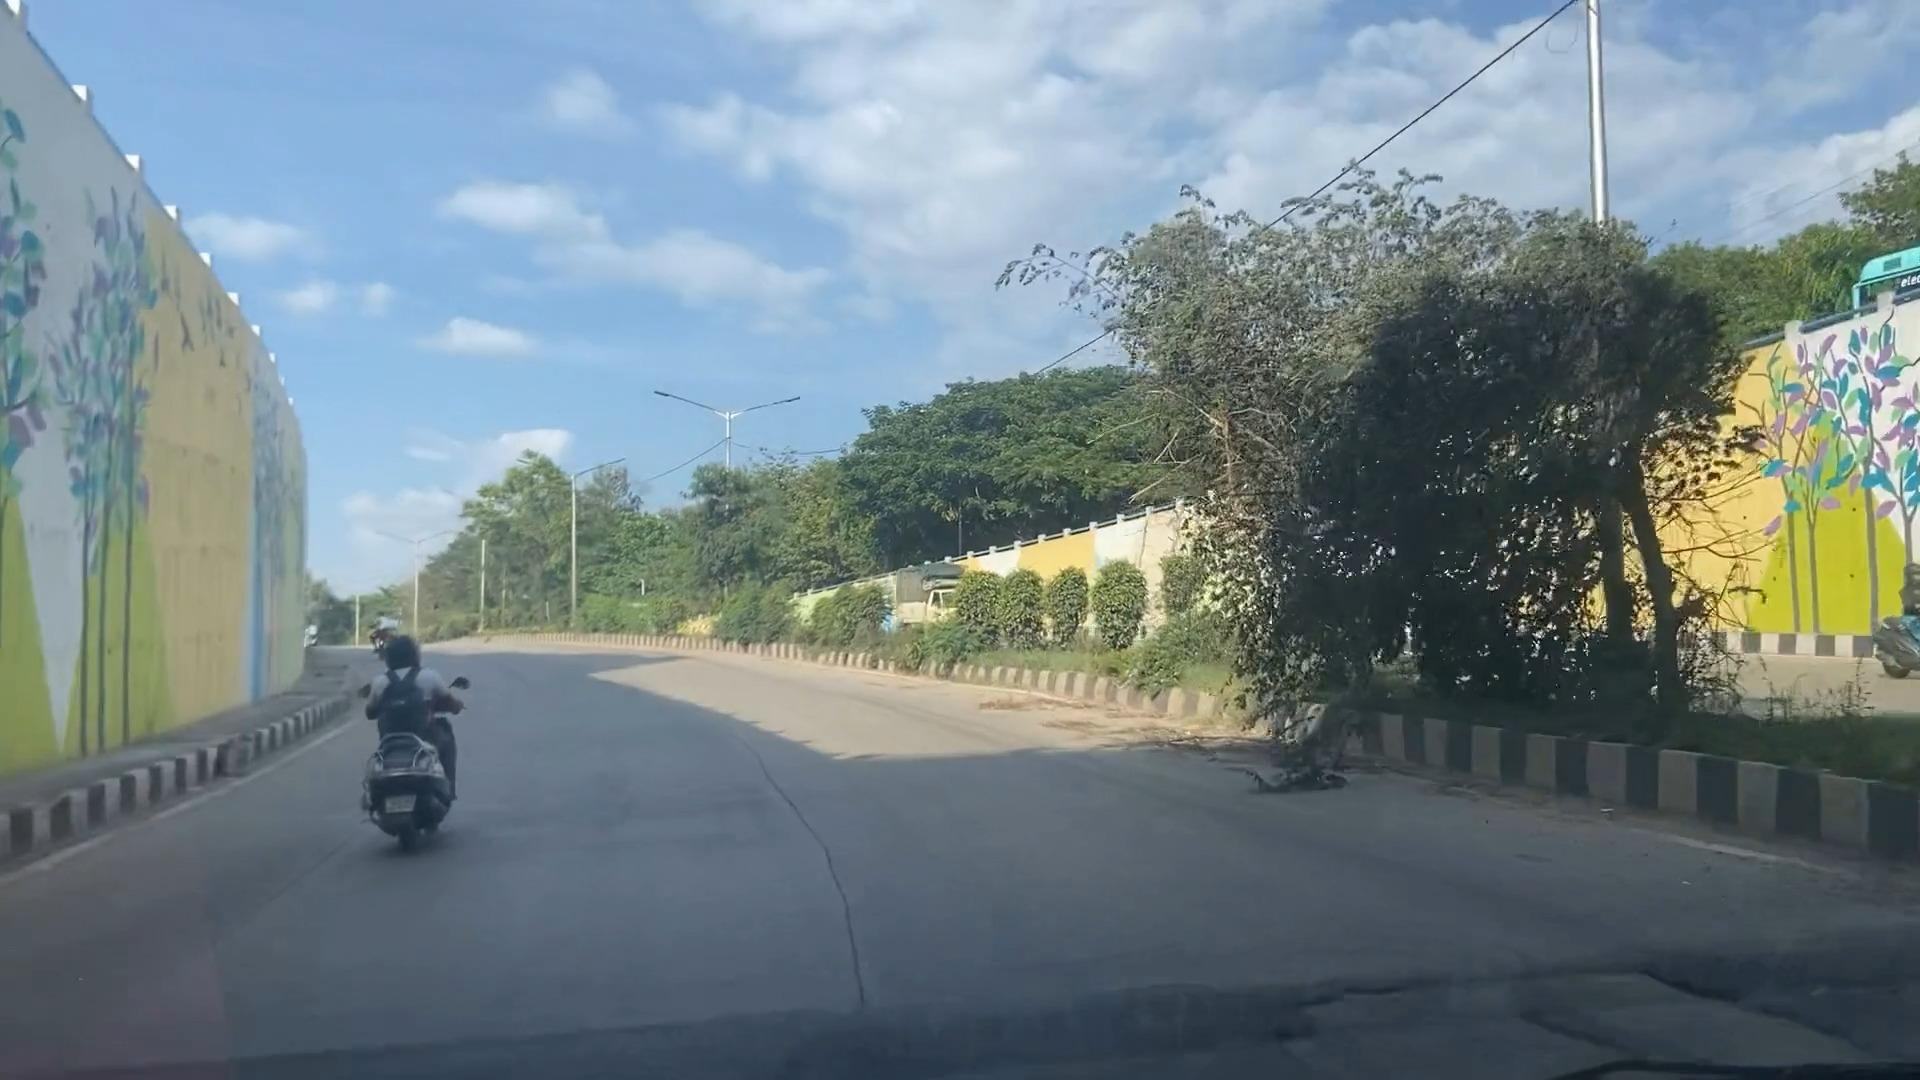LMV: (368, 636, 463, 861)
RoadDamages: (1184, 942, 1873, 1080)
UnsurfacedRoad: (638, 947, 1183, 1046)
